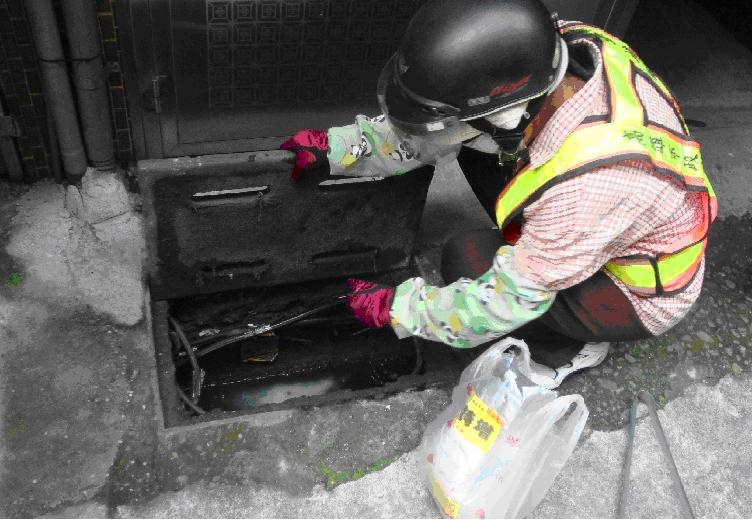plastic_bag: (419, 337, 590, 520)
